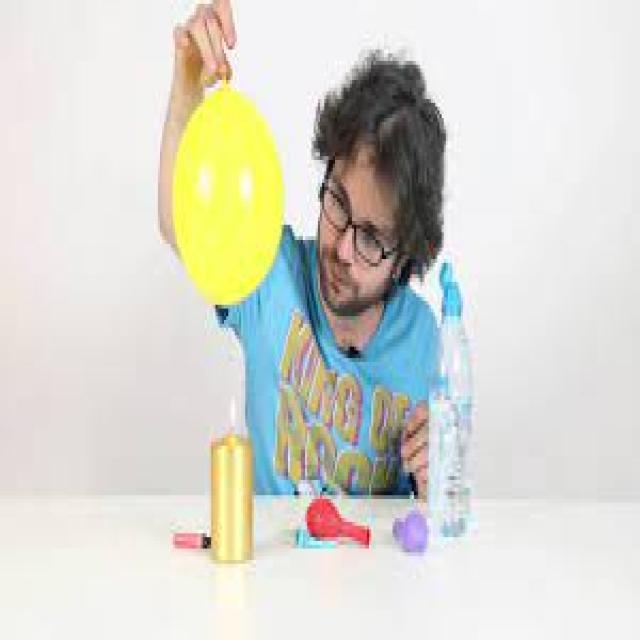balloon: (172, 84, 284, 312)
